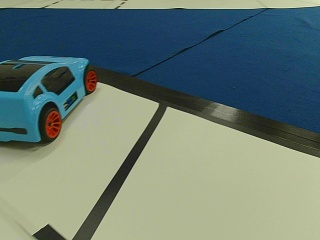car: (0, 57, 97, 144)
